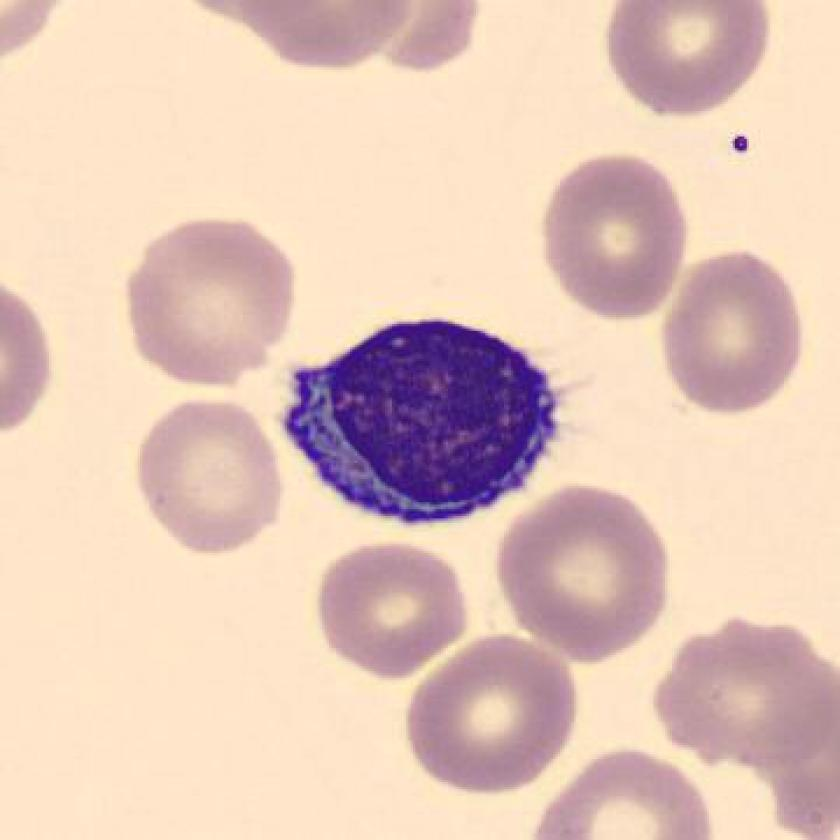lymphocyte: (262, 297, 575, 540)
